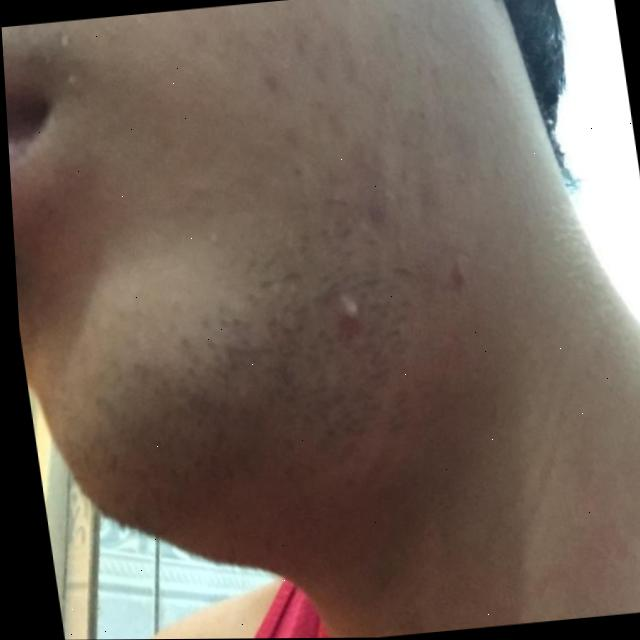Acne: (186, 106, 471, 400)
